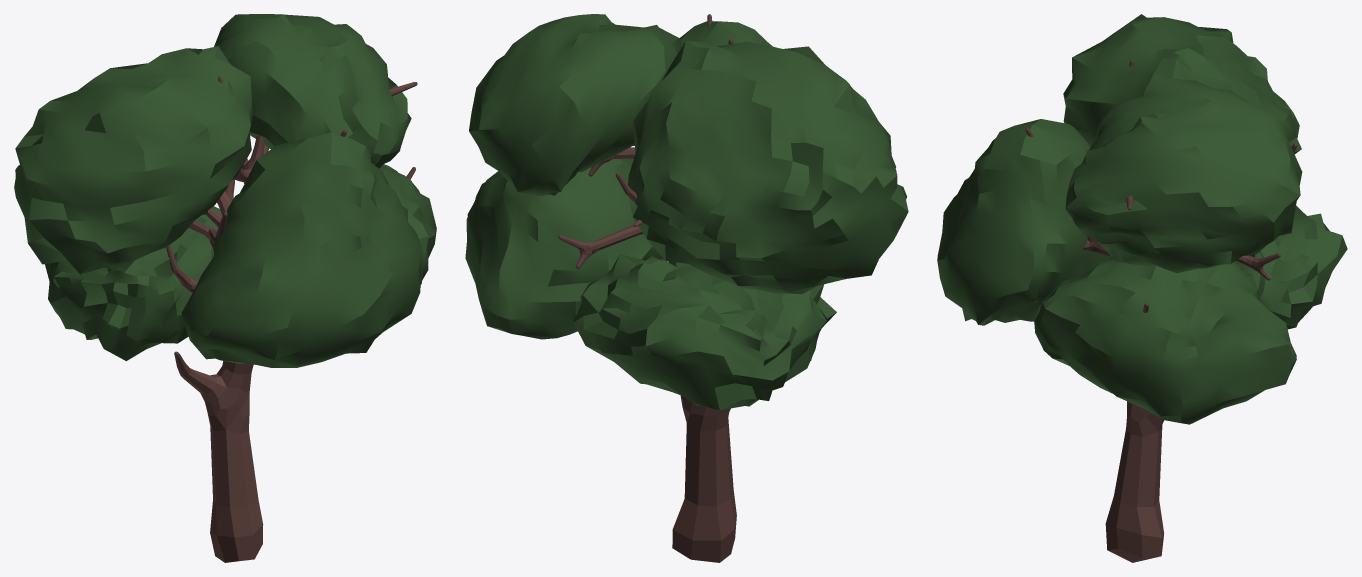
The model's file is firefighter_tree_med.fbx.
The picture shows the model from 3 angles, left to right: view 1: azimuth 30°, elevation 25°; view 2: azimuth 150°, elevation 25°; view 3: azimuth 270°, elevation 25°; orthographic projection. The views are drawn at different scales.
Parts seen in each view (by area): view 1: leaf.002, leaf.001, leaf.004, leaf.003, tree, leaf; view 2: leaf.001, leaf.003, leaf.004, leaf, tree, leaf.002; view 3: leaf.004, leaf, leaf.002, leaf.001, tree, leaf.003.
Part boxes in pixels (x1,y1,x2,y2): leaf.002: (181,132,422,367); leaf.001: (14,46,252,274); leaf.004: (214,14,411,168); leaf.003: (45,206,221,361); tree: (166,76,417,562); leaf: (379,164,436,284); leaf.001: (628,41,908,294); leaf.003: (573,254,836,410); leaf.004: (469,14,681,196); leaf: (465,158,664,339); tree: (558,14,736,562); leaf.002: (680,21,772,46); leaf.004: (1065,79,1302,273); leaf: (1034,259,1296,424); leaf.002: (937,119,1112,325); leaf.001: (1063,14,1301,154); tree: (1025,59,1296,562); leaf.003: (1235,205,1347,329).
Bounding box in the file's own units: 416 × 493 × 368.
